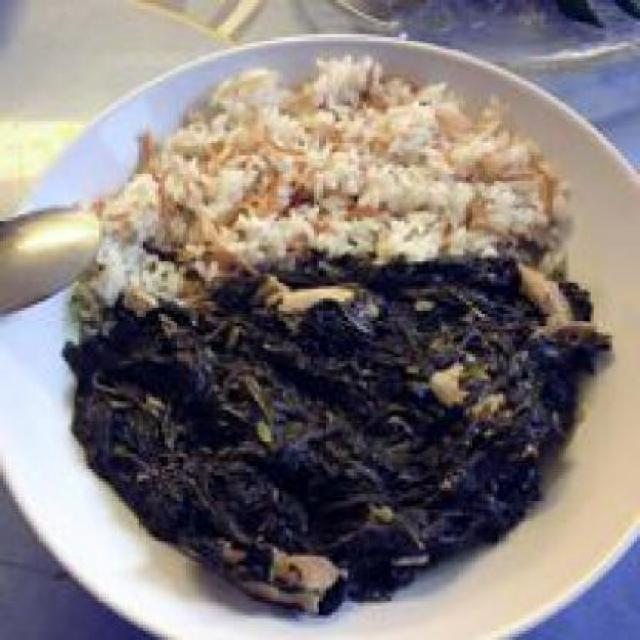fried rice: (87, 40, 571, 308)
molokhia: (65, 254, 603, 621)
